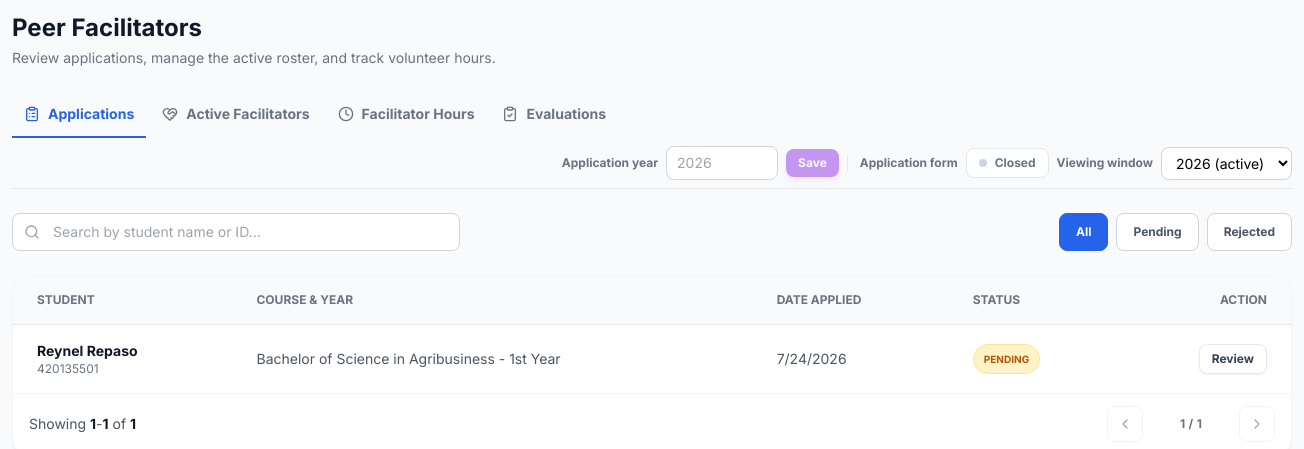
Test case: CareStaffPeerFacilitatorsPage layout › renders the Evaluations tab and switches to peer evaluations view
The width and height of the screenshot is (1304, 449).
What coordinates should you click on to do the following:
click the tab "Evaluations"
I would click on:
 (554, 115)
Its box is [490,92,618,138].
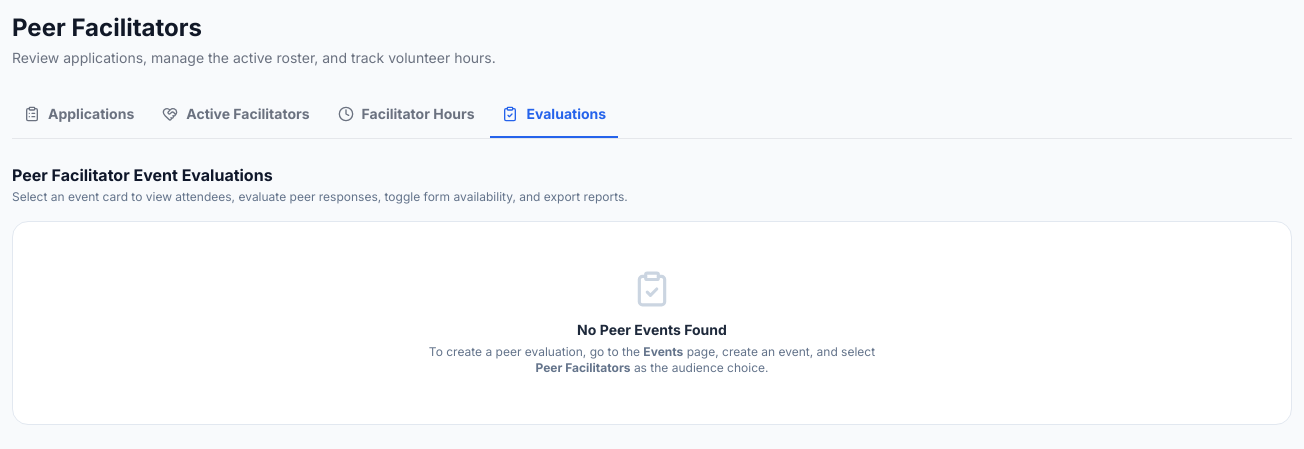
Check: the heading "Peer Facilitator Event Evaluations" is shown, box [12,165,273,185]
